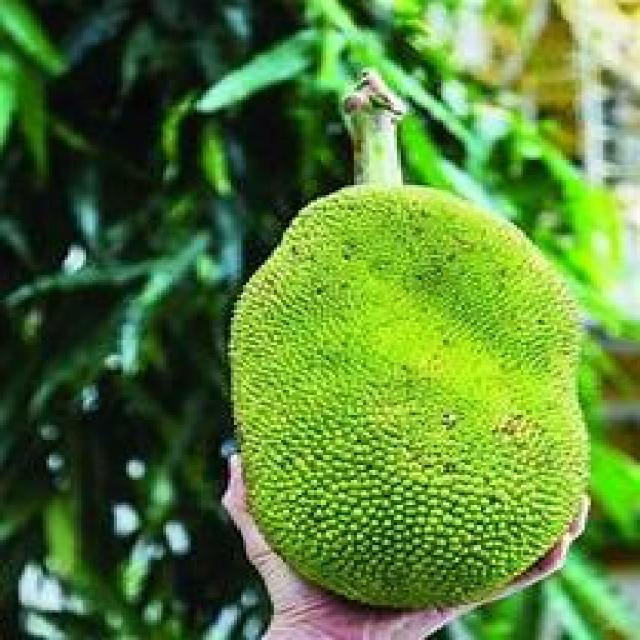fruit: (98, 158, 511, 560)
